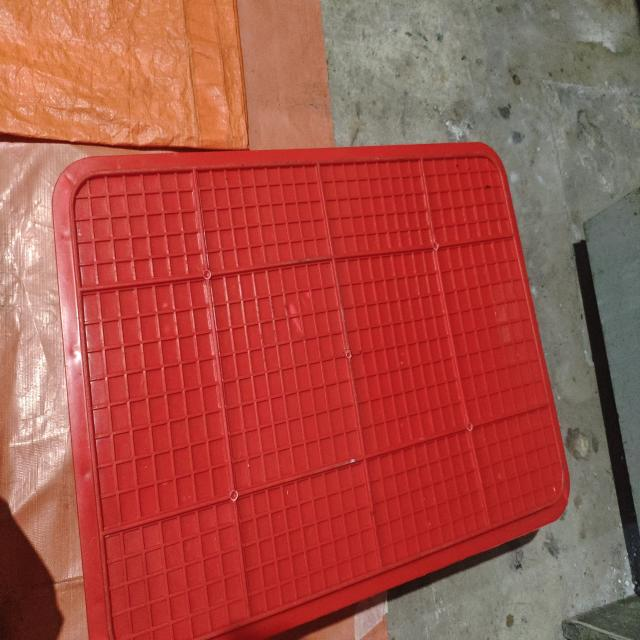red plastic box: (51, 142, 572, 640)
